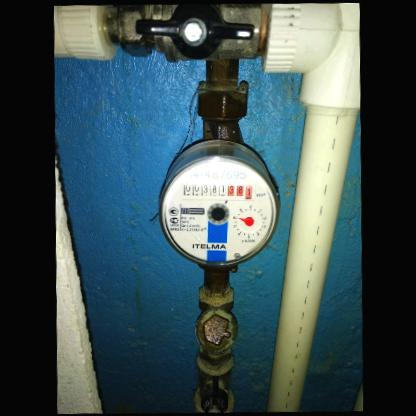digital_screen: (179, 180, 226, 202)
